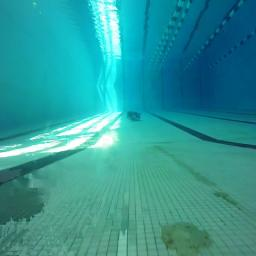Side: (127, 111, 141, 121)
